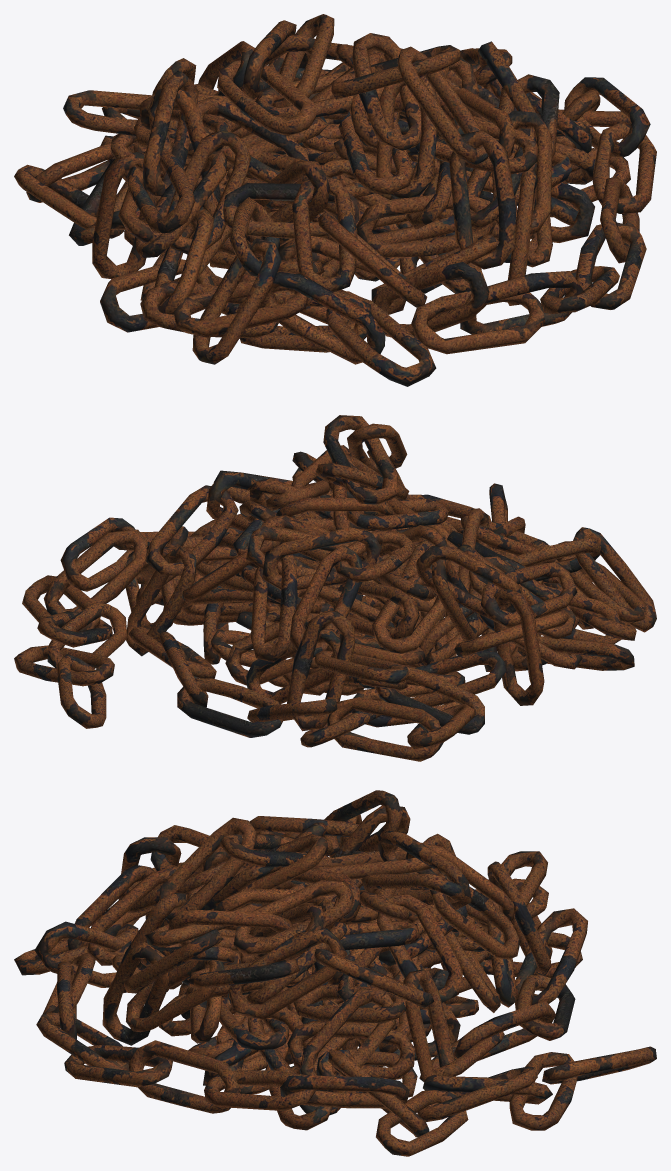
Rendered from SM_Ind_Fac_Chain_Pile_Metal_Rusty_01.gltf.
3 views of the same model, one above another, from view 1: azimuth 30°, elevation 25°; view 2: azimuth 150°, elevation 25°; view 3: azimuth 270°, elevation 25° (orthographic). The views are drawn at different scales.
Parts seen in each view (by area): view 1: SM_Ind_Fac_Chain_Pile_Metal_Rusty_01; view 2: SM_Ind_Fac_Chain_Pile_Metal_Rusty_01; view 3: SM_Ind_Fac_Chain_Pile_Metal_Rusty_01.
Part boxes in pixels (x1,y1,x2,y2): SM_Ind_Fac_Chain_Pile_Metal_Rusty_01: [14, 14, 656, 386]; SM_Ind_Fac_Chain_Pile_Metal_Rusty_01: [14, 415, 656, 761]; SM_Ind_Fac_Chain_Pile_Metal_Rusty_01: [14, 790, 656, 1156].
Bounding box in the file's own units: 0.5057 × 0.1743 × 0.5026.
1 material, 1 textured.
